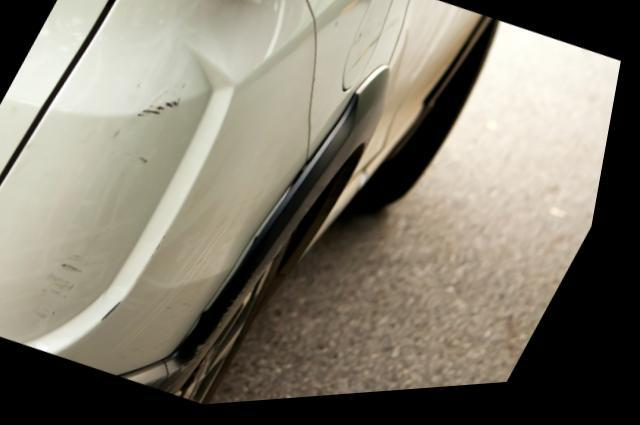scratch: (55, 95, 187, 334), (109, 299, 137, 333)
